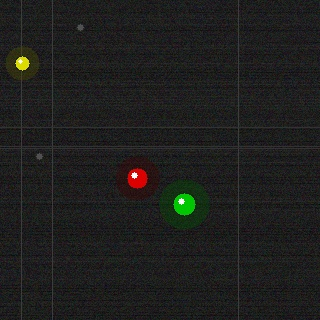green_normal: (171, 191, 197, 217)
red_fault: (125, 166, 149, 190)
yellow_warning: (13, 54, 31, 72)
